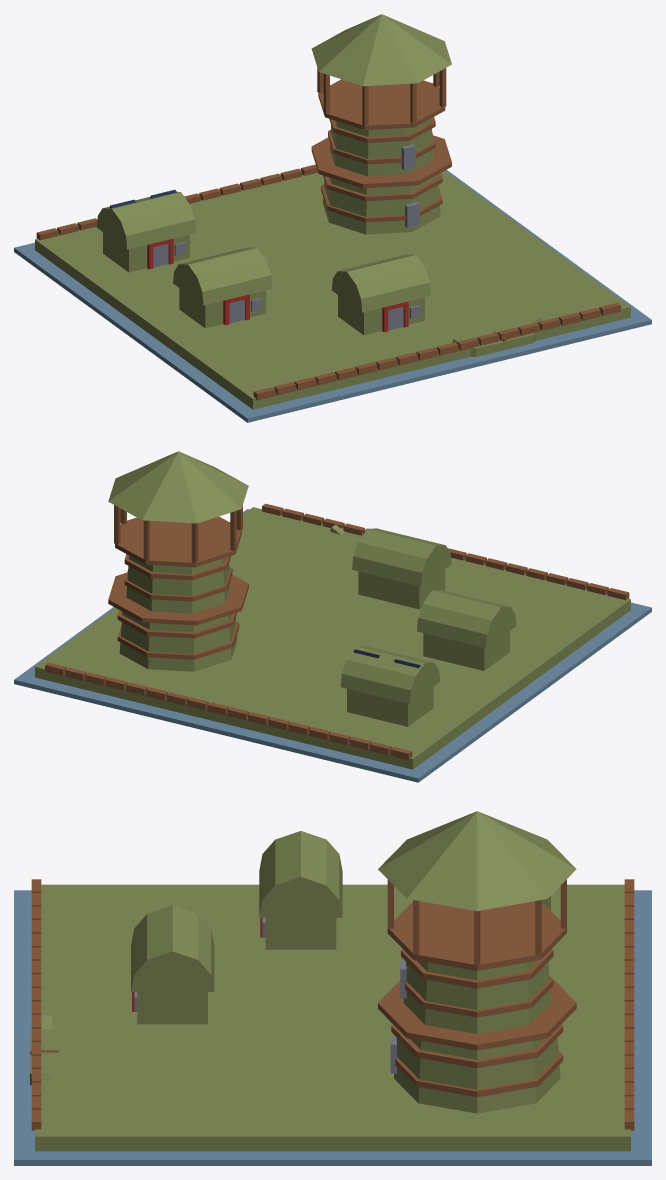
File: house-2x2-2f-totora-a-solar.glb
3 renders of one model, top to bottom at view 1: azimuth 30°, elevation 25°; view 2: azimuth 150°, elevation 25°; view 3: azimuth 270°, elevation 25°, orthographic. The views are drawn at different scales.
Parts seen in each view (by area): view 1: house-2x2-2f-totora-a-solar; view 2: house-2x2-2f-totora-a-solar; view 3: house-2x2-2f-totora-a-solar.
Part boxes in pixels (x1=…): house-2x2-2f-totora-a-solar: x1=14, y1=14, x2=651, y2=422; house-2x2-2f-totora-a-solar: x1=14, y1=451, x2=651, y2=782; house-2x2-2f-totora-a-solar: x1=14, y1=811, x2=651, y2=1165.
Size of the model in its own units: 1.99 by 0.99 by 1.99.
Materials: 1 (1 with a texture image).
